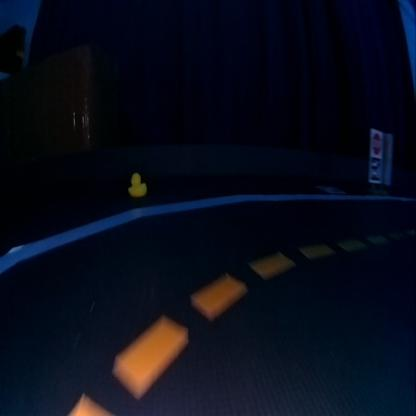Duckie: (128, 172, 144, 196)
QR code: (318, 185, 344, 193)
Stop sign: (369, 127, 382, 157)
